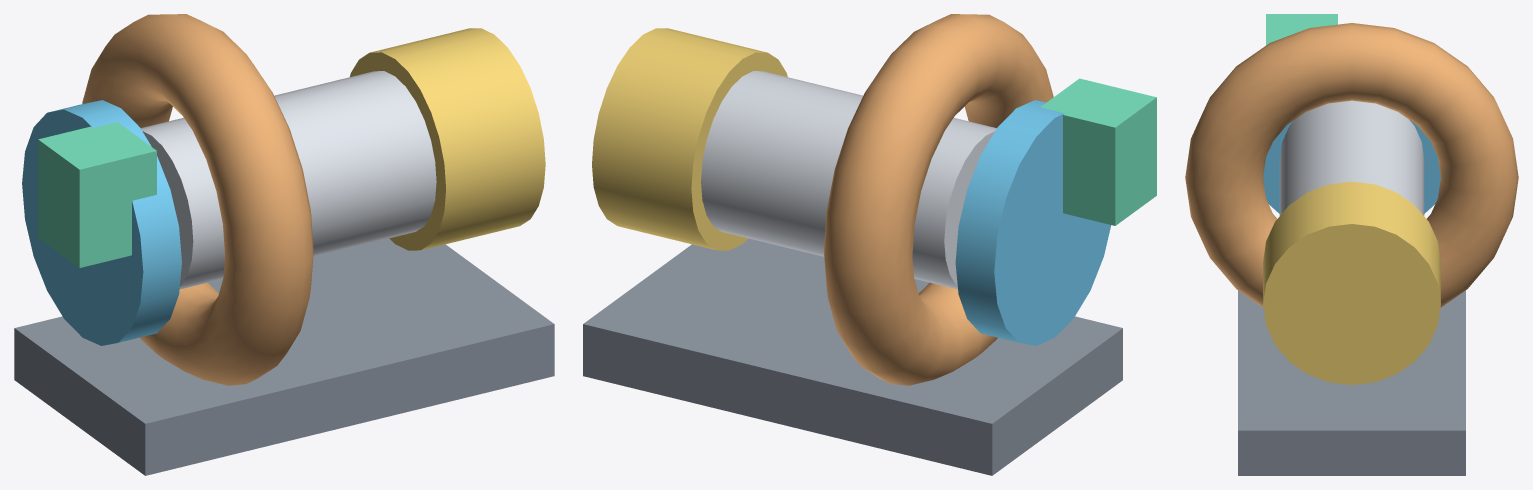
The model's file is autoel-charging.glb.
3 views of the same model, side by side, from view 1: azimuth 30°, elevation 25°; view 2: azimuth 150°, elevation 25°; view 3: azimuth 270°, elevation 25° (orthographic). The views are drawn at different scales.
Parts seen in each view (by area): view 1: part_housing_ground, part_stator_winding, part_rotor_armature, part_planetary_gear, part_rectifier_bridge, part_pwm_regulator; view 2: part_housing_ground, part_stator_winding, part_rotor_armature, part_rectifier_bridge, part_planetary_gear, part_pwm_regulator; view 3: part_stator_winding, part_planetary_gear, part_housing_ground, part_rotor_armature, part_rectifier_bridge, part_pwm_regulator.
Boxes of the visible parts, left/top/right/bottom form: part_housing_ground: left=14, top=238, right=554, bottom=475; part_stator_winding: left=82, top=14, right=313, bottom=385; part_rotor_armature: left=141, top=71, right=436, bottom=289; part_planetary_gear: left=350, top=28, right=545, bottom=250; part_rectifier_bridge: left=22, top=100, right=181, bottom=345; part_pwm_regulator: left=38, top=122, right=156, bottom=267; part_housing_ground: left=583, top=238, right=1122, bottom=475; part_stator_winding: left=824, top=14, right=1053, bottom=385; part_rotor_armature: left=701, top=71, right=996, bottom=289; part_rectifier_bridge: left=955, top=100, right=1111, bottom=345; part_planetary_gear: left=592, top=28, right=787, bottom=250; part_pwm_regulator: left=1040, top=78, right=1156, bottom=225; part_stator_winding: left=1185, top=23, right=1518, bottom=307; part_planetary_gear: left=1263, top=181, right=1440, bottom=384; part_housing_ground: left=1238, top=290, right=1465, bottom=475; part_rotor_armature: left=1279, top=100, right=1424, bottom=215; part_rectifier_bridge: left=1263, top=120, right=1440, bottom=213; part_pwm_regulator: left=1266, top=14, right=1337, bottom=45.
Bounding box in the file's own units: 1.68 × 1.29 × 1.2.
